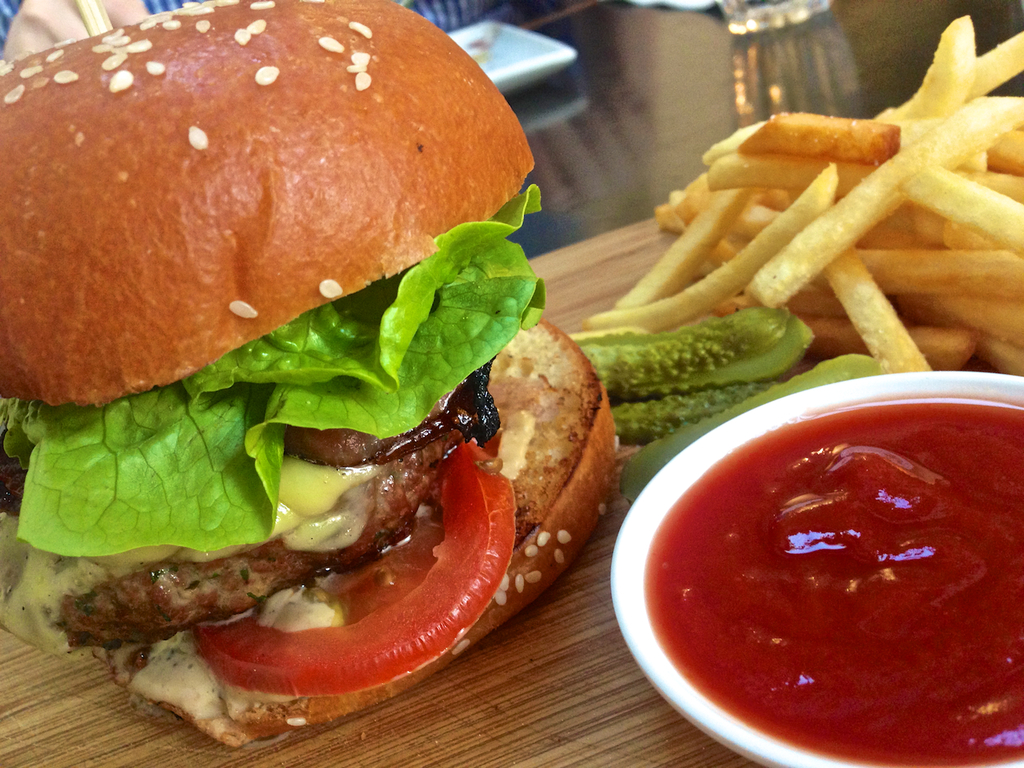French fries: (597, 50, 1024, 385)
